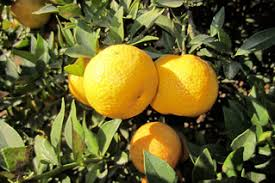orange: (82, 40, 159, 120), (147, 49, 221, 118), (123, 121, 184, 172)
